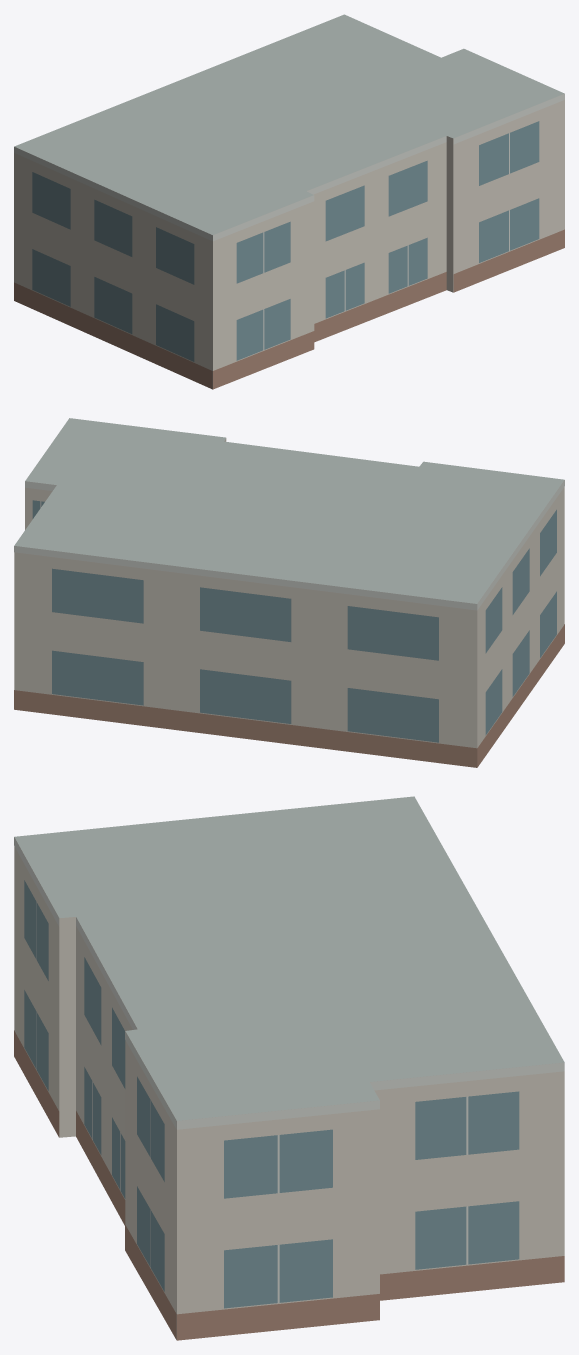
File: survey-upis-32678337.glb
The picture shows the model from 3 angles, top to bottom: view 1: azimuth 30°, elevation 25°; view 2: azimuth 150°, elevation 25°; view 3: azimuth 270°, elevation 25°; orthographic projection. The views are drawn at different scales.
Parts seen in each view (by area): view 1: survey-upis-32678337.tmp; view 2: survey-upis-32678337.tmp; view 3: survey-upis-32678337.tmp.
Boxes of the visible parts, box(x1,y1,x2,y2) form: survey-upis-32678337.tmp: box(14, 14, 564, 389); survey-upis-32678337.tmp: box(14, 418, 564, 767); survey-upis-32678337.tmp: box(14, 796, 564, 1340).
Bounding box in the file's own units: 19.35 × 6.1 × 13.87.
